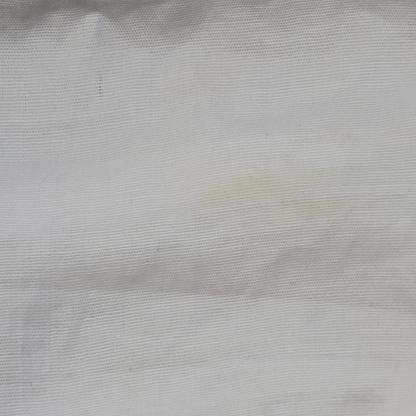spot: (195, 174, 280, 198)
